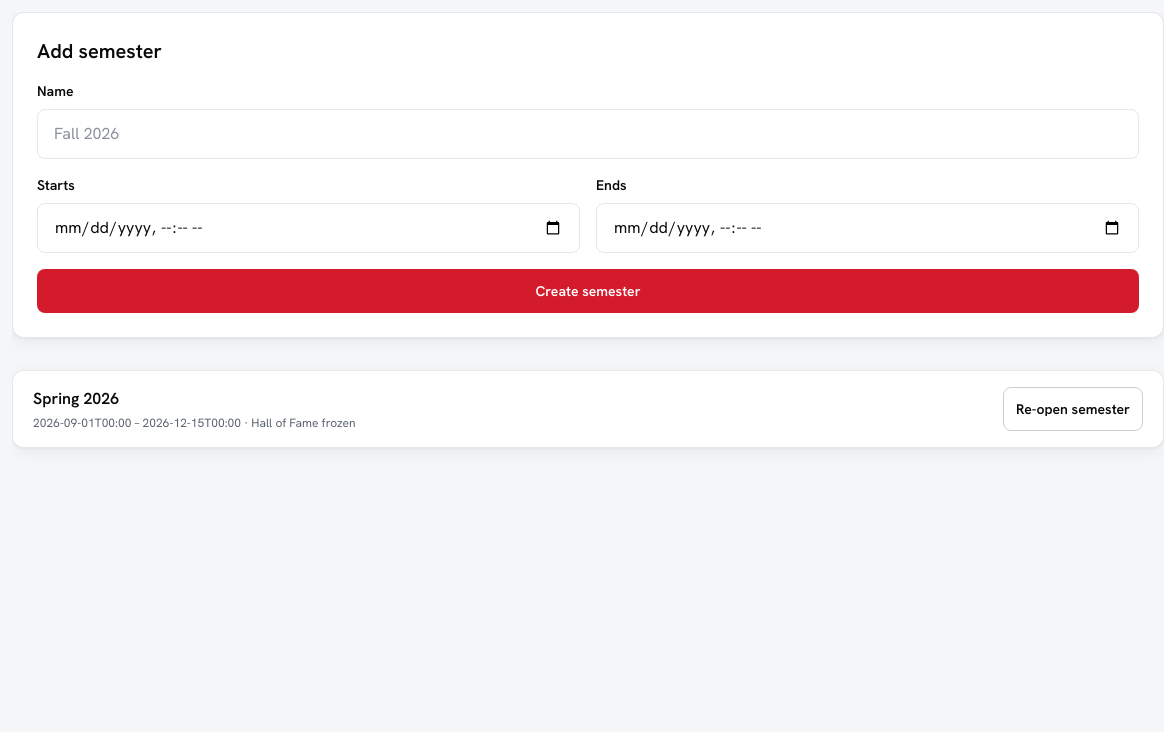
SemesterForm › re-opens after confirm and shows success feedback
Click the button "Re-open semester".
click(1073, 409)  # box x1=1003 y1=387 x2=1143 y2=431
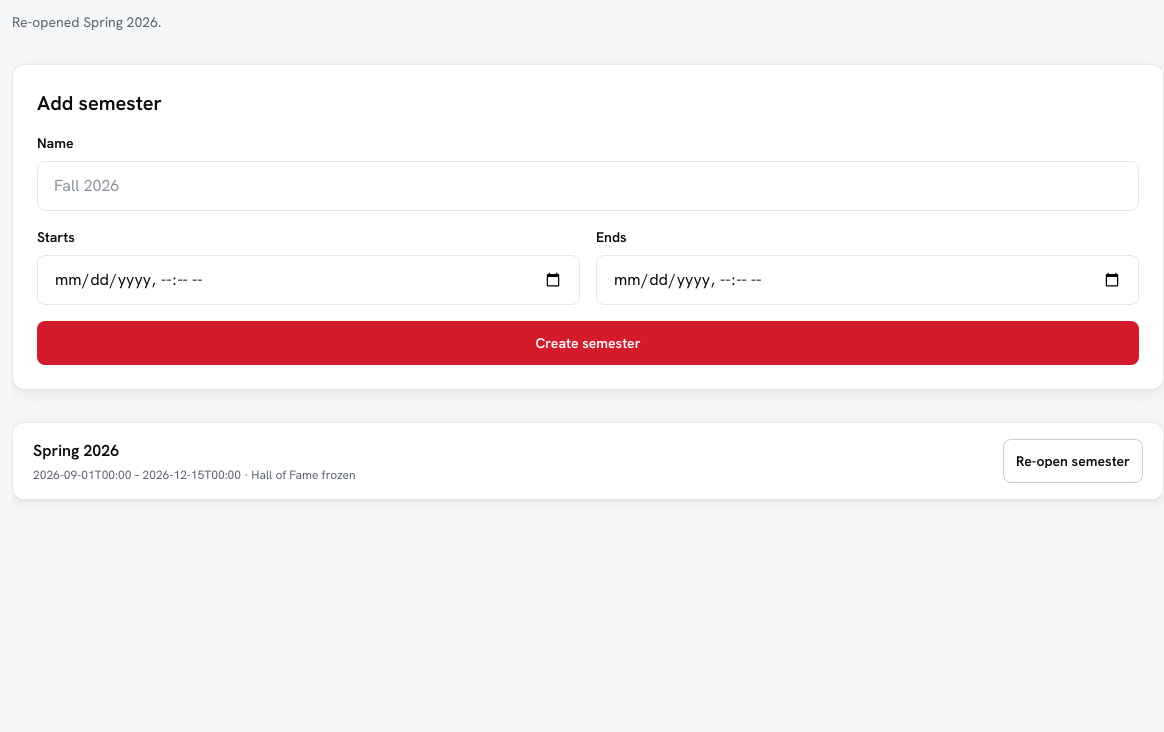
expect the text "Re-opened Spring 2026." is shown: met, box x1=12 y1=13 x2=161 y2=31
